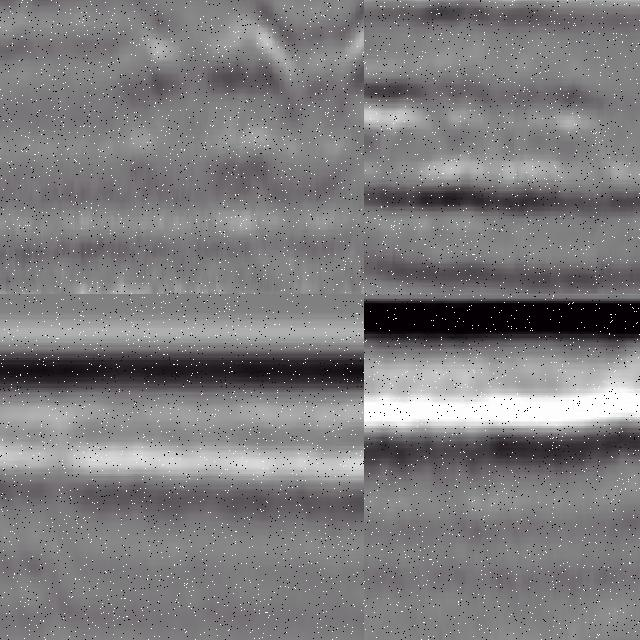loose: (365, 65, 502, 231), (209, 1, 365, 112), (365, 424, 414, 582)
